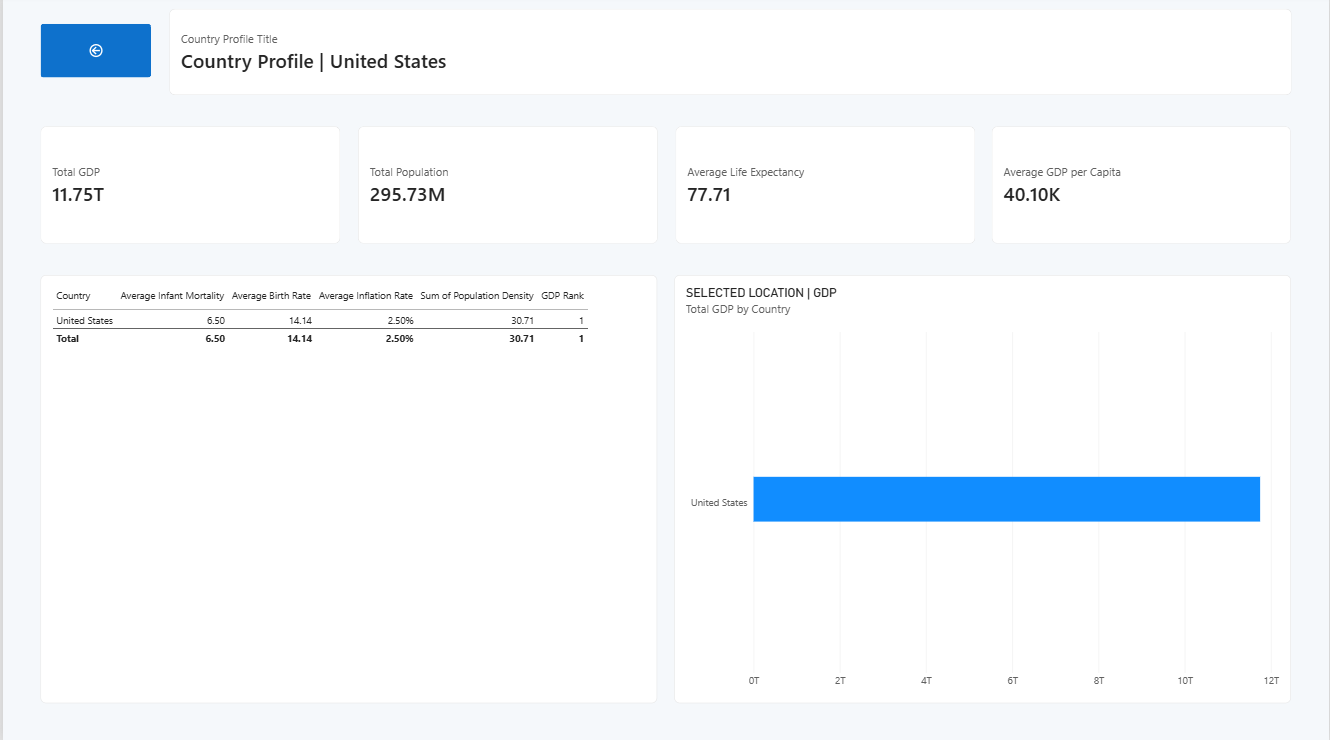

This screenshot's page, from the dashboard's own definition file:
{"tool":"powerbi","page":{"name":"Country Profile","canvas":[1920,1080],"ordinal":4},"visuals":[{"type":"actionButton","box":[55,42,160,78],"z":0},{"type":"cardVisual","fields":{"Data":["Country Data Comparison.Total GDP"]},"box":[55,190,434,170],"z":1000},{"type":"cardVisual","fields":{"Data":["Country Data Comparison.Total Population"]},"box":[514,190,434,170],"z":2000},{"type":"cardVisual","fields":{"Data":["Country Data Comparison.Average Life Expectancy"]},"box":[973,190,434,170],"z":3000},{"type":"cardVisual","fields":{"Data":["Country Data Comparison.Average GDP per Capita"]},"box":[1432,190,433,170],"z":4000},{"type":"clusteredBarChart","title":"SELECTED LOCATION | GDP","fields":{"Category":["Country Data Comparison.Country"],"Y":["Country Data Comparison.Total GDP"]},"box":[972,405,893,620],"z":5000},{"type":"tableEx","fields":{"Values":["Country Data Comparison.Country","Country Data Comparison.Average Infant Mortality","Country Data Comparison.Average Birth Rate","Country Data Comparison.Average Inflation Rate","Sum(Country Data Comparison.Population Density)","Country Data Comparison.GDP Rank"]},"box":[55,405,893,620],"z":6000},{"type":"cardVisual","fields":{"Data":["Country Data Comparison.Country Profile Title"]},"box":[240,20,1625,125],"z":7000}]}

Visuals, with their boxes in screenshot pixels (x1, y1, x2, y2), scaled from the page's 1920x1080 canvas onto the 1330x740 screenshot:
actionButton: pyautogui.locateOnScreen(38, 29, 149, 82)
cardVisual - Country Data Comparison.Total GDP: pyautogui.locateOnScreen(38, 130, 339, 247)
cardVisual - Country Data Comparison.Total Population: pyautogui.locateOnScreen(356, 130, 657, 247)
cardVisual - Country Data Comparison.Average Life Expectancy: pyautogui.locateOnScreen(674, 130, 975, 247)
cardVisual - Country Data Comparison.Average GDP per Capita: pyautogui.locateOnScreen(992, 130, 1292, 247)
"SELECTED LOCATION | GDP" clusteredBarChart: pyautogui.locateOnScreen(673, 278, 1292, 702)
tableEx - Country Data Comparison.Country x Country Data Comparison.Average Infant Mortality: pyautogui.locateOnScreen(38, 278, 657, 702)
cardVisual - Country Data Comparison.Country Profile Title: pyautogui.locateOnScreen(166, 14, 1292, 99)
